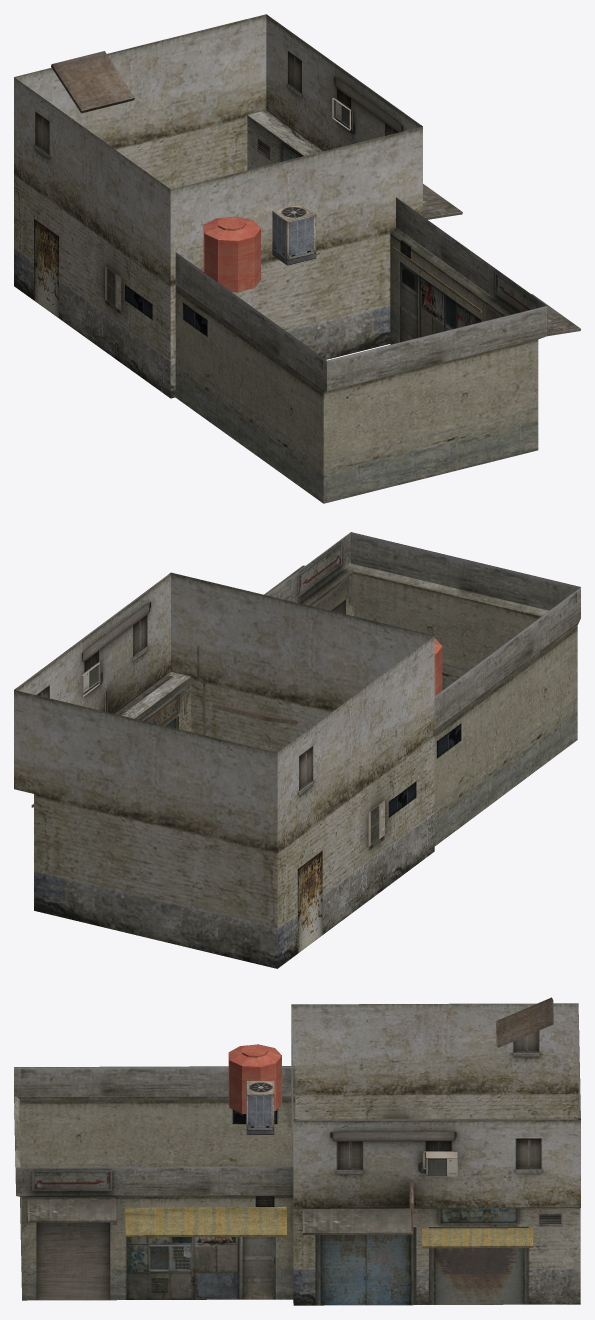
Rendered from building01.fbx.
3 renders of one model, top to bottom at view 1: azimuth 30°, elevation 25°; view 2: azimuth 150°, elevation 25°; view 3: azimuth 270°, elevation 25°, orthographic. The views are drawn at different scales.
Parts seen in each view (by area): view 1: polySurface4; view 2: polySurface4; view 3: polySurface4.
Part boxes in pixels (<box>): polySurface4: <box>14,14,580,503</box>; polySurface4: <box>14,532,580,968</box>; polySurface4: <box>14,997,580,1305</box>.
Bounding box in the file's own units: 1175 × 848 × 2060.
Materials: 1 (1 with a texture image).
